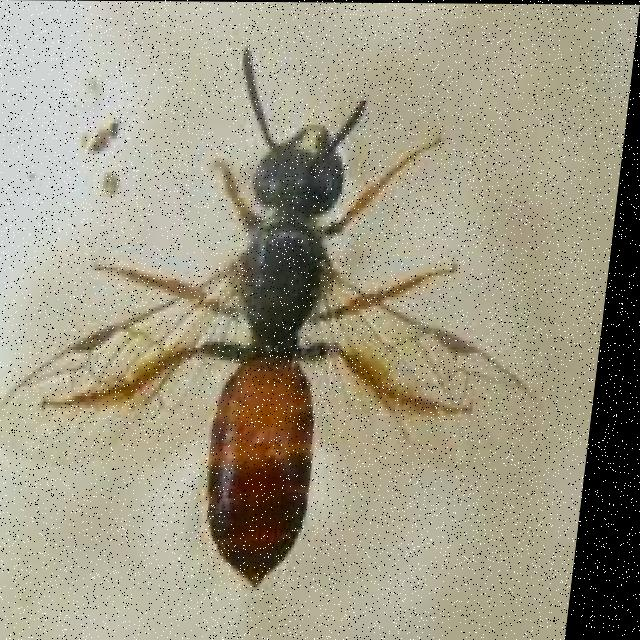Allodapula: (0, 36, 592, 585)
